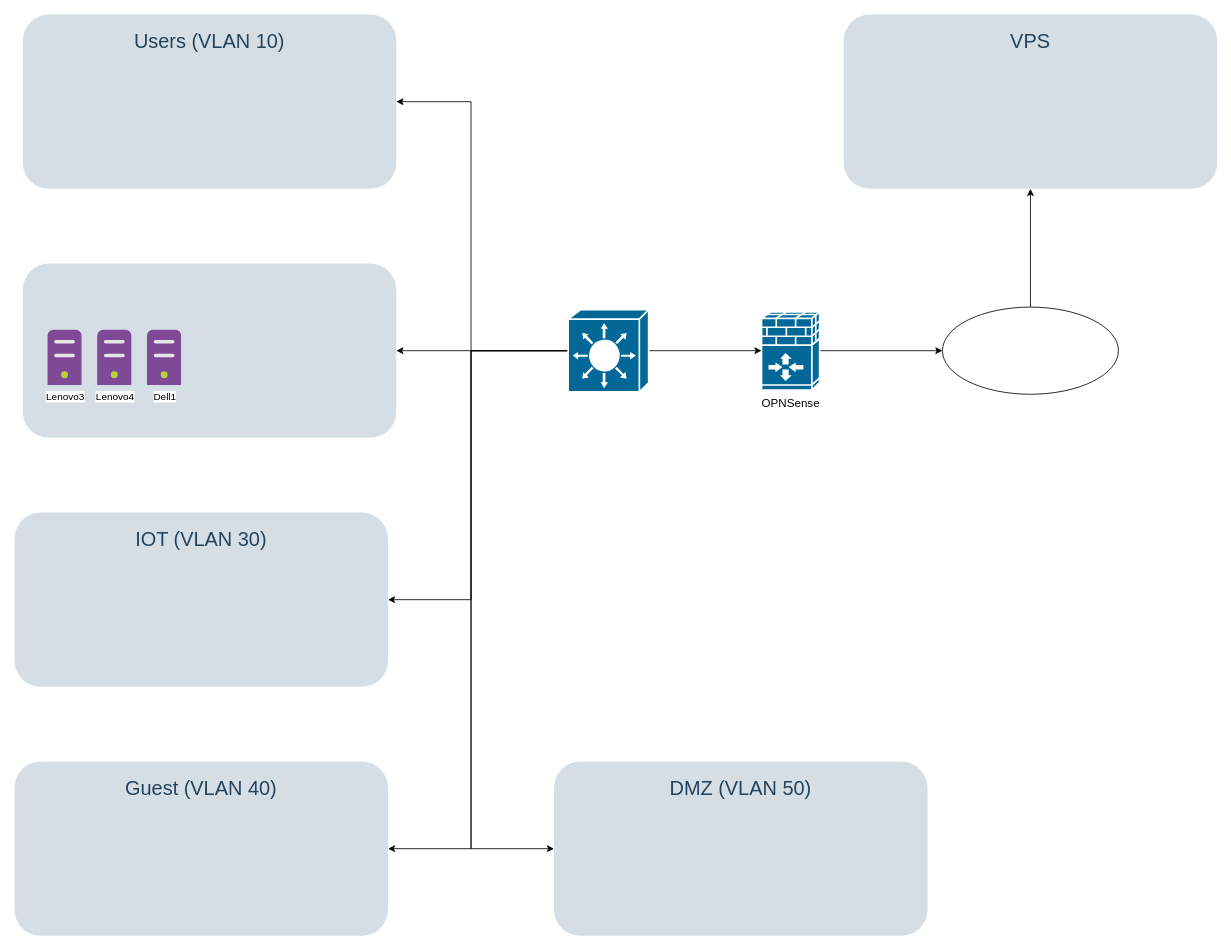
The diagram is 1231 pixels wide and 950 high, and some of its shapes have lost their labels. The shapes that lost their labels are listed below. From the top down, each one's box as (x1, y1, x2, y2) in pixels, then its label:
(22, 263, 396, 437): Servers (VLAN 20)
(567, 308, 649, 392): Switch1
(942, 306, 1118, 394): Internet
